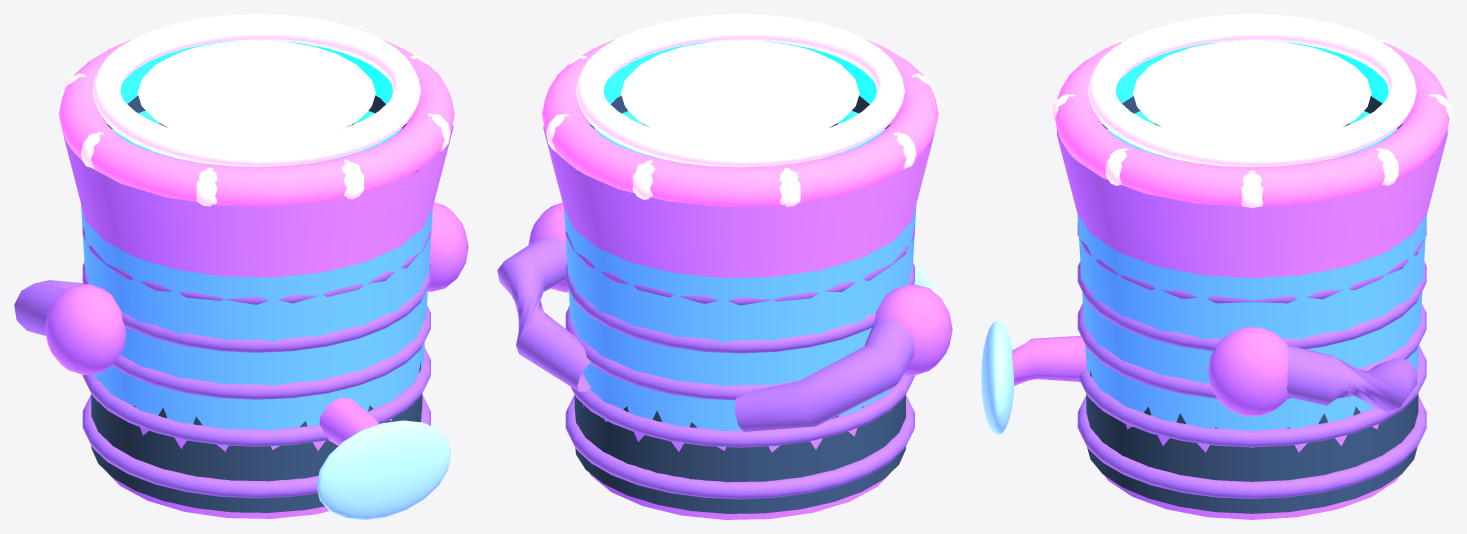
The model's file is SpalakhSpotlightVintageNeon_v094.glb.
3 views of the same model, side by side, from view 1: azimuth 30°, elevation 25°; view 2: azimuth 150°, elevation 25°; view 3: azimuth 270°, elevation 25° (orthographic).
Bounding box in the file's own units: 0.9136 × 0.7996 × 0.908.
